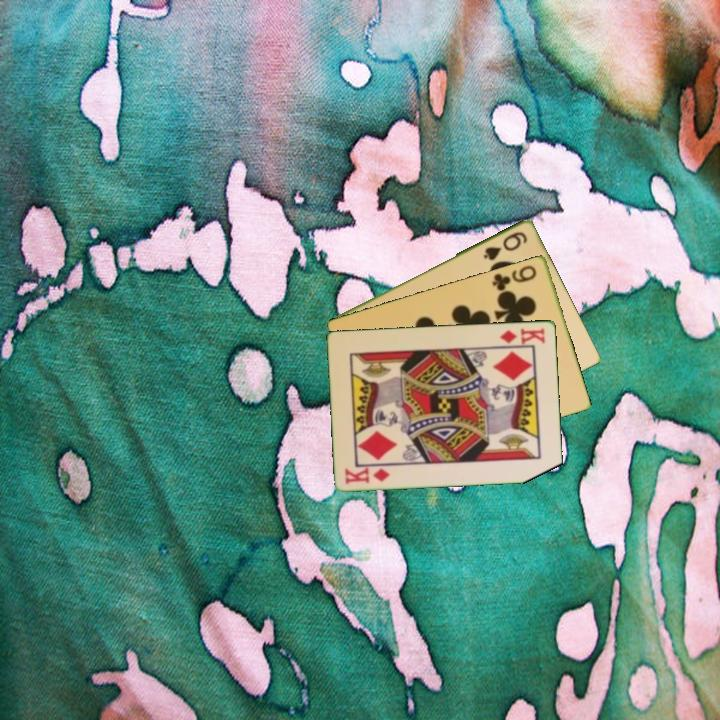6s: (480, 228, 530, 263)
9c: (489, 261, 540, 294)
Kd: (497, 324, 548, 347), (342, 464, 393, 486)
